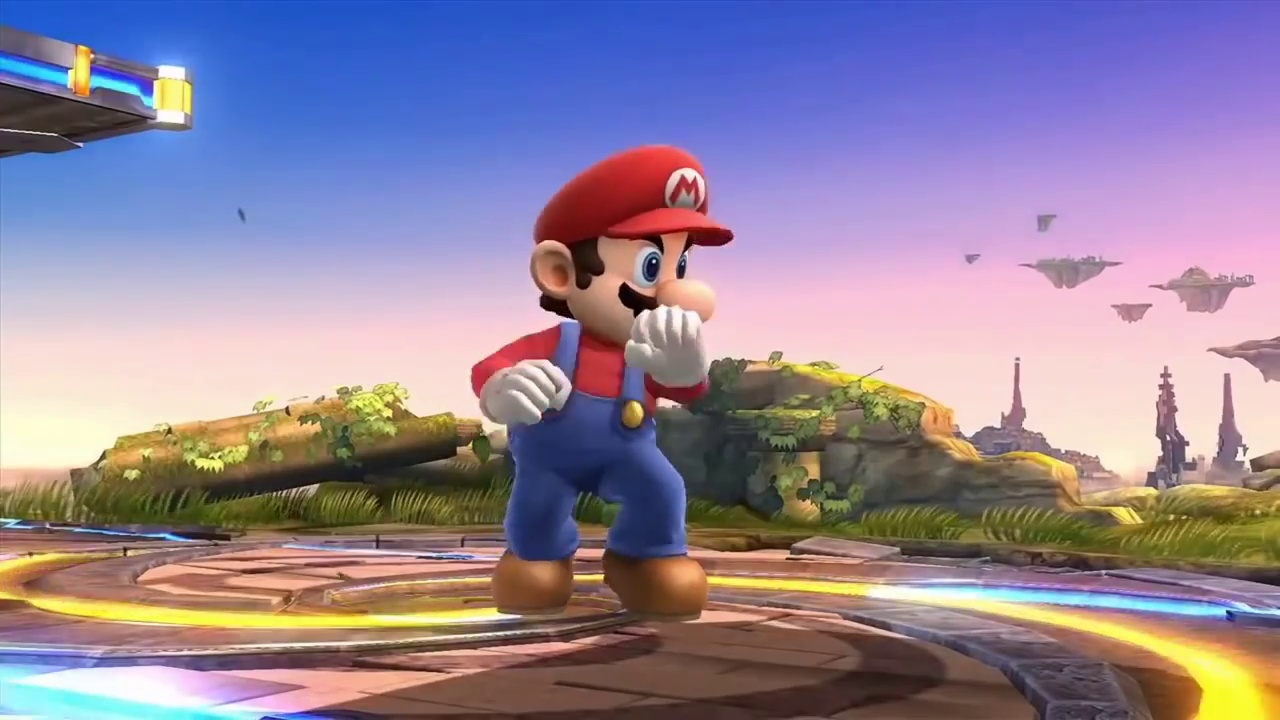Mario: (469, 142, 734, 624)
